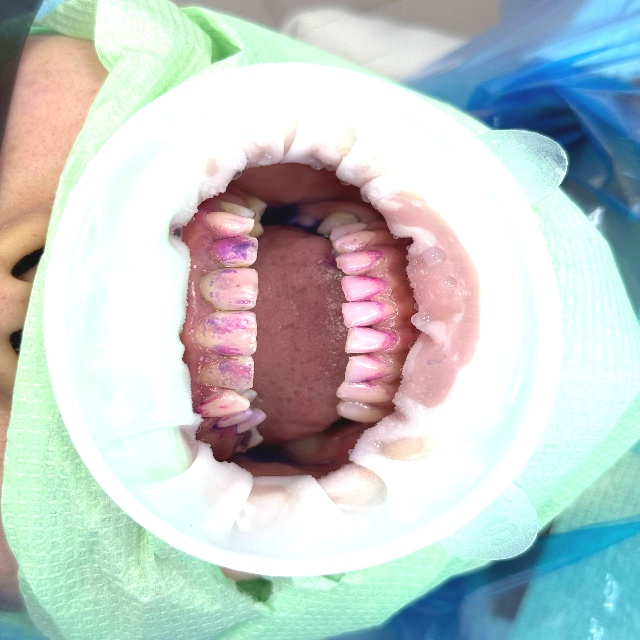clean_tooth: (32, 38, 101, 119), (314, 11, 378, 57), (387, 434, 436, 462), (346, 476, 385, 506)
plaque: (406, 0, 639, 221), (345, 552, 536, 639), (215, 238, 251, 260)
